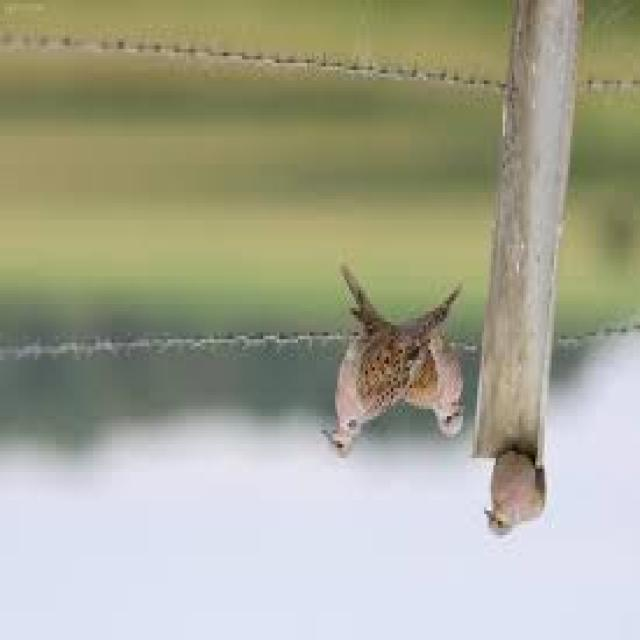pigeon: (317, 270, 444, 482)
